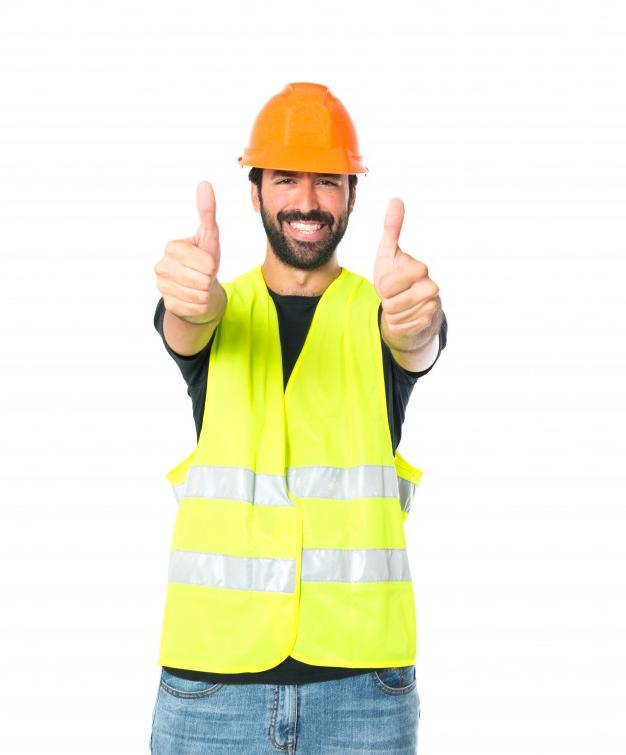thumbsup: (153, 180, 222, 318), (375, 198, 440, 335)
